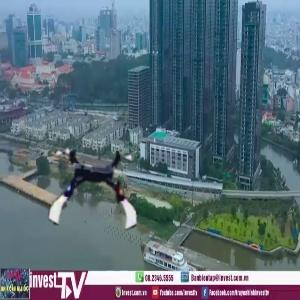drone: (50, 144, 144, 238)
